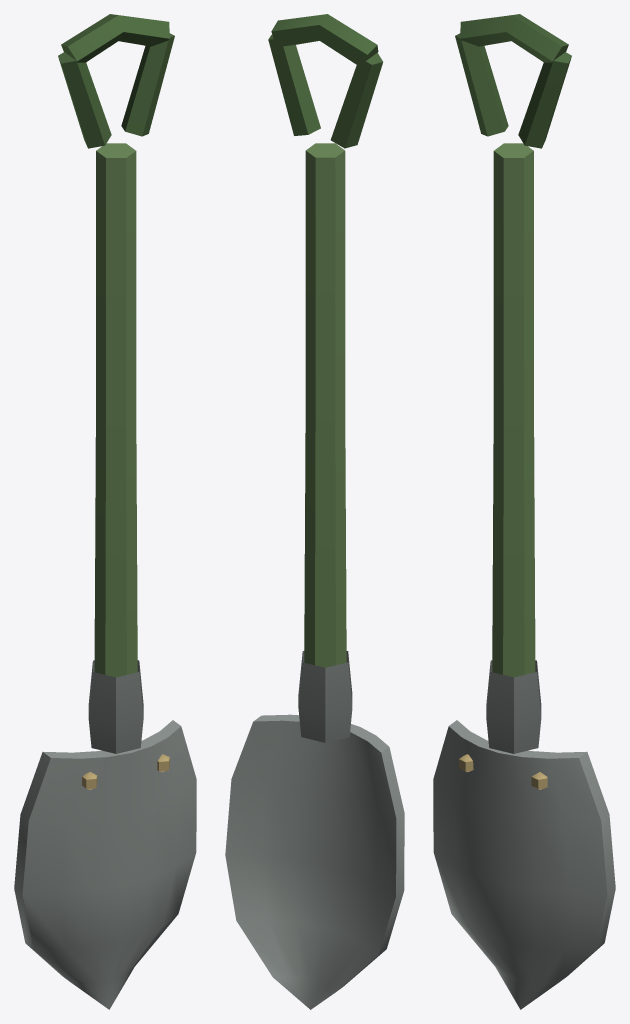
File: shovel-3.glb
3 renders of one model, left to right at view 1: azimuth 30°, elevation 25°; view 2: azimuth 150°, elevation 25°; view 3: azimuth 330°, elevation 25°, orthographic.
Parts seen in each view (by area): view 1: shovel-3; view 2: shovel-3; view 3: shovel-3.
Part boxes in pixels (bbox=[...]): shovel-3: bbox=[14, 14, 196, 1009]; shovel-3: bbox=[225, 14, 404, 1009]; shovel-3: bbox=[433, 14, 615, 1009].
Bounding box in the file's own units: 0.12 × 0.6606 × 0.044.
